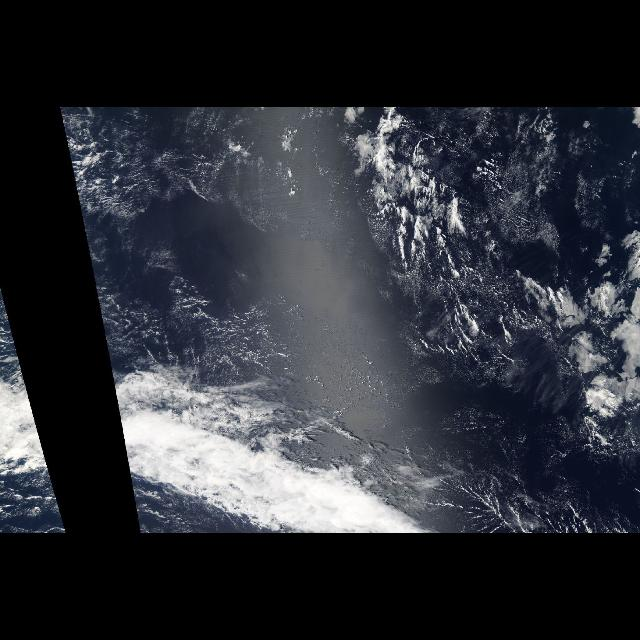Fish: (110, 375, 234, 531), (242, 429, 426, 529), (0, 375, 66, 531)
Flower: (528, 221, 638, 473)
Sugar: (109, 113, 421, 437)
